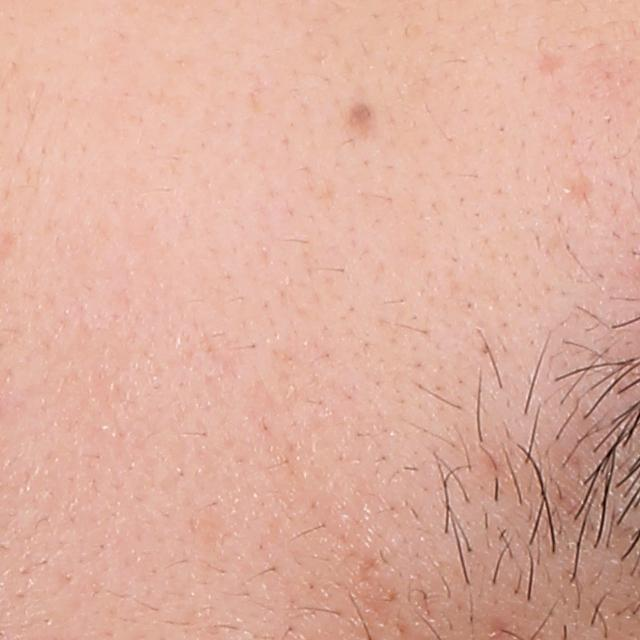atrophic_scar: (531, 47, 572, 80), (564, 176, 599, 206)
nevus: (345, 100, 375, 137)
